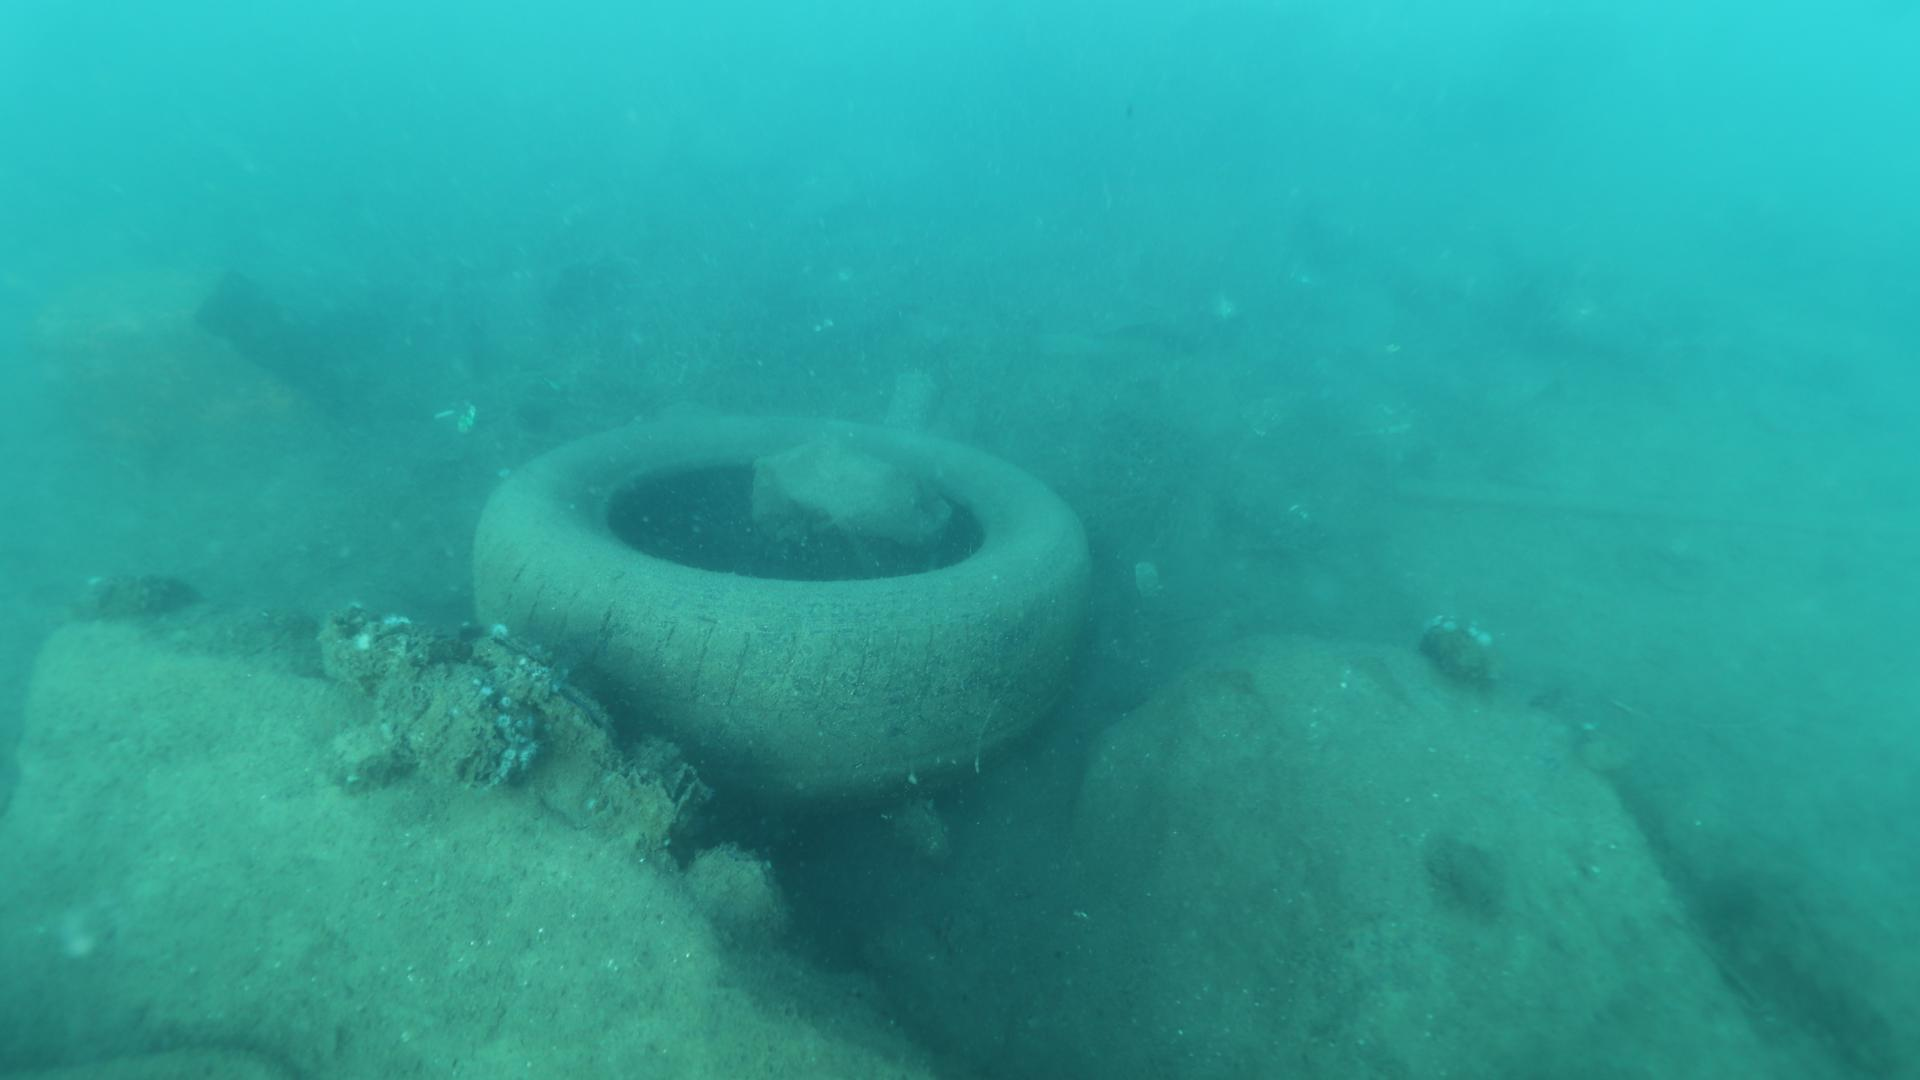tire: (480, 417, 1092, 796)
